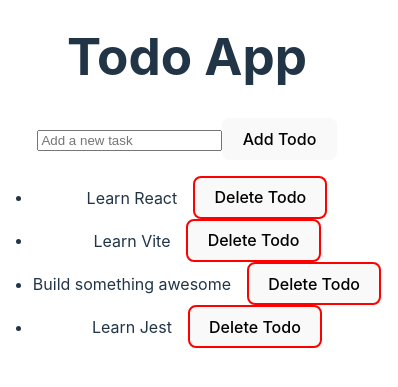
Todo Component › sollte den Nutzern erlauben eine todo hinzuzufügen
Type "Learn Jest" into the field with placeholder "Add a new task". click: (130, 141)
box: [38,130,222,151]
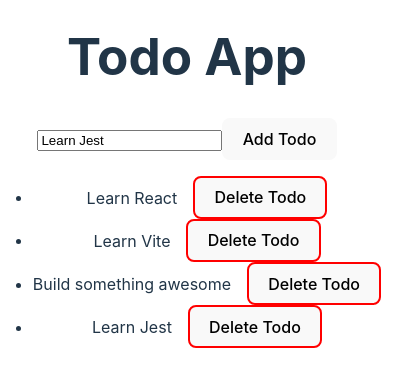
Click the button "Add Todo". click: click(280, 139)
box: [222,118,337,160]
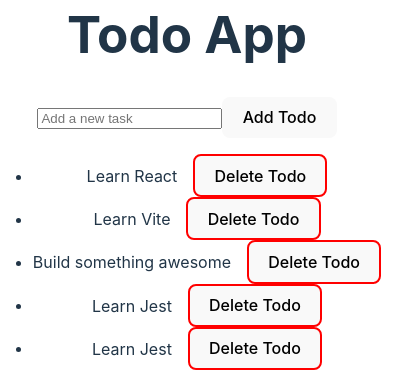
Expected: the 1st list item "Learn Jest Delete Todo" is shown, [92,284,322,327]
Expected: the 2nd list item "Learn Jest Delete Todo" is shown, [92,327,322,370]
